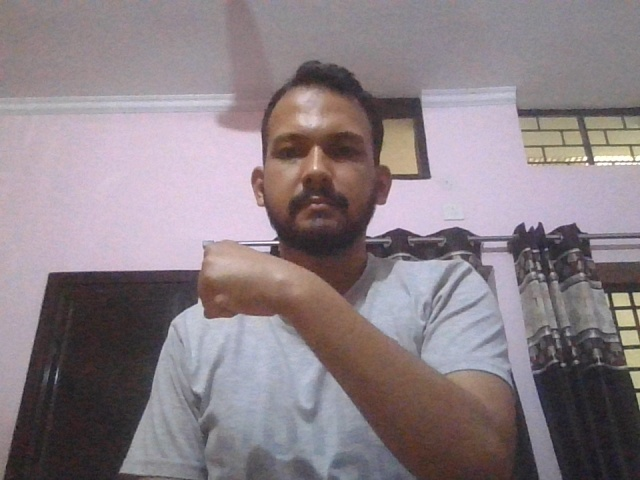yes: (197, 240, 337, 320)
